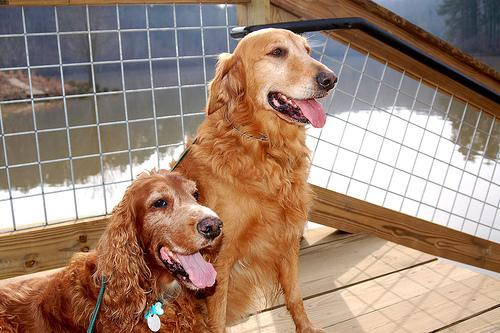Irish_setter: (0, 167, 227, 330)
